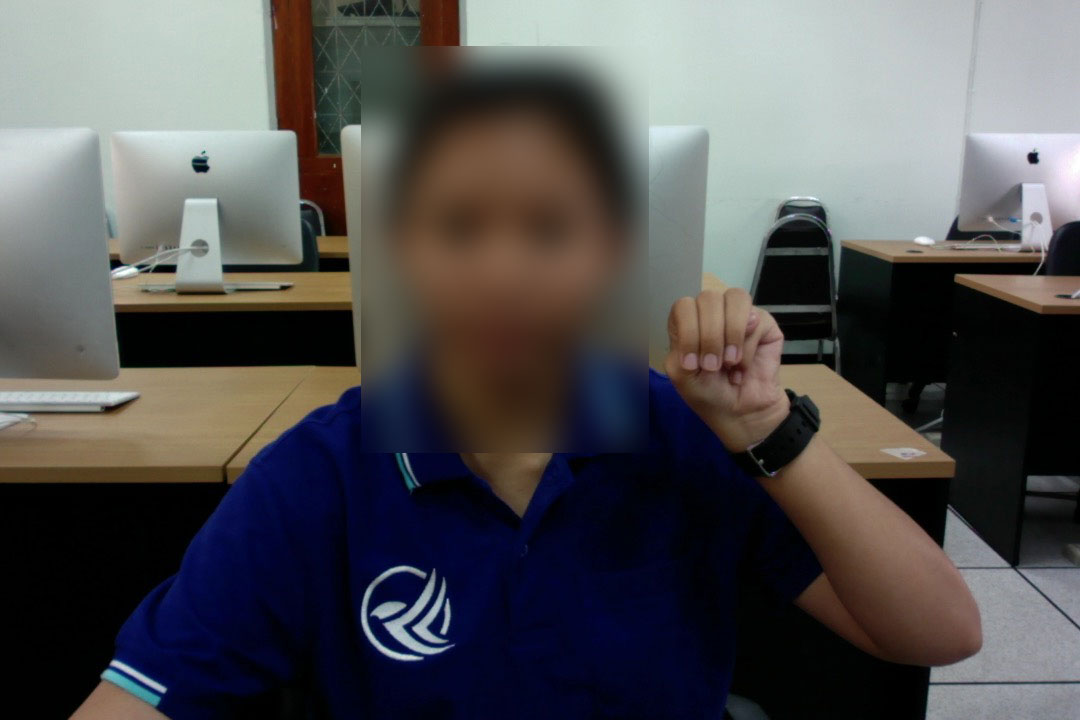mor: (657, 279, 789, 438)
